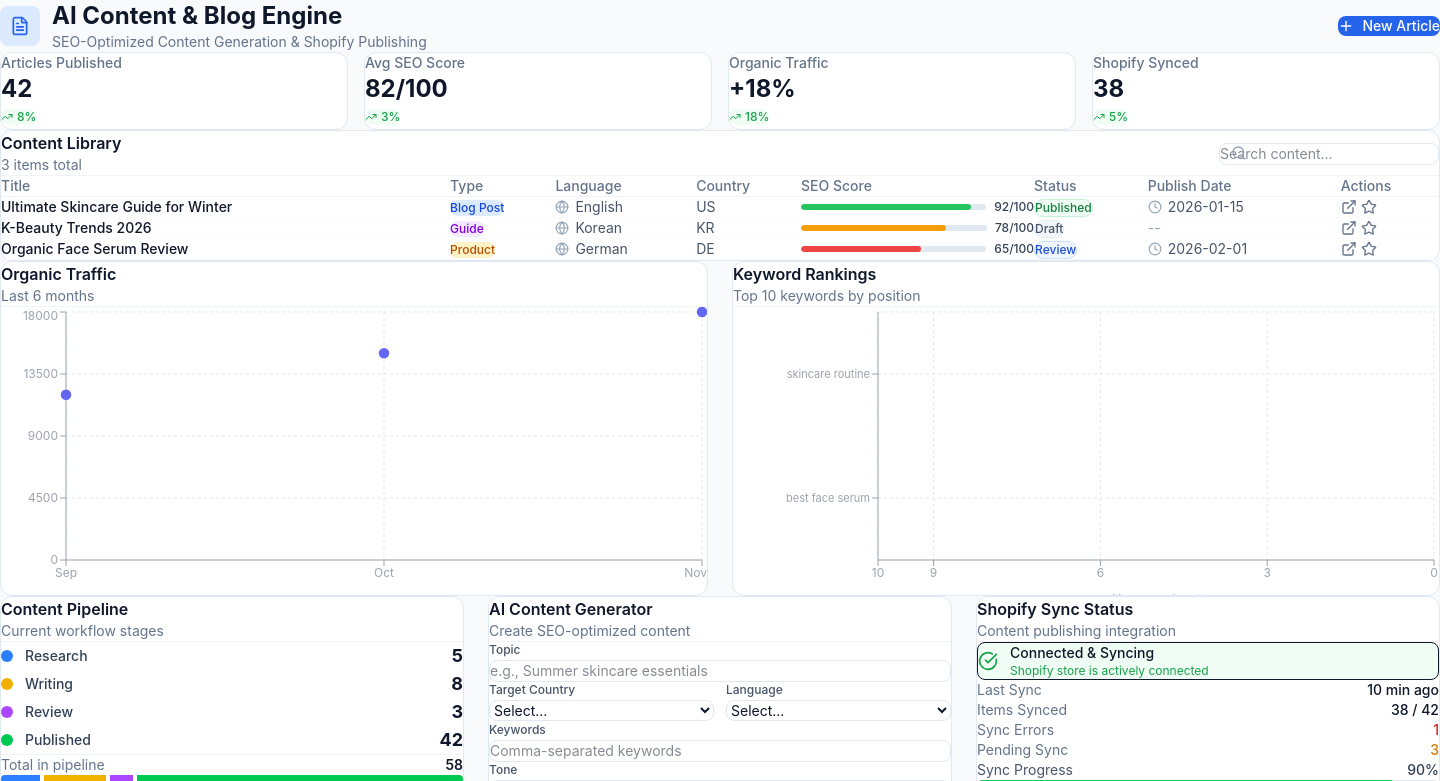
Test: ContentBlog › filters content by search query
The image size is (1440, 781).
Type "K-Beauty" into the field with placeholder "Search content..." at (1329, 154), box [1219,143,1439,165]
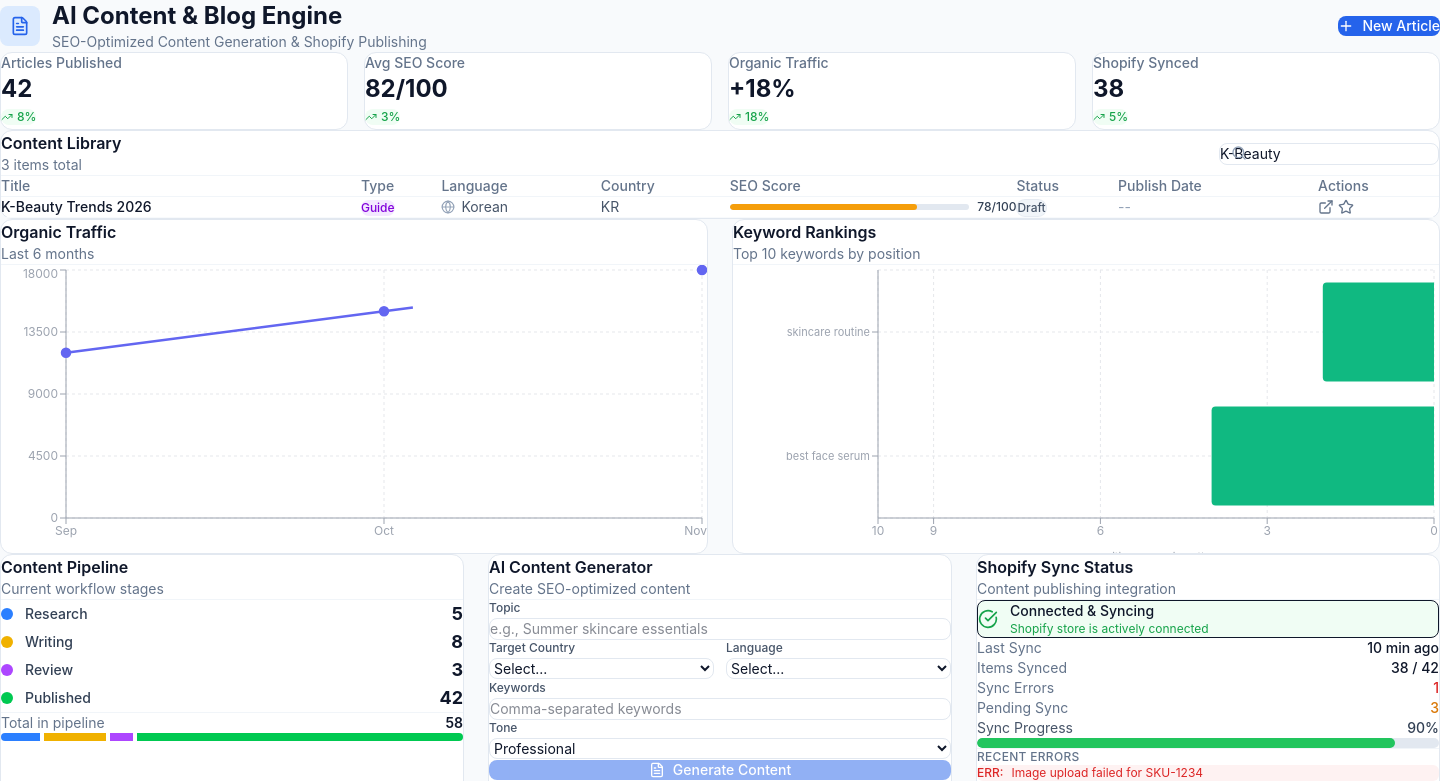
Expected: the text "K-Beauty Trends 2026" is shown, [1,198,152,215]
Expected: the text "Ultimate Skincare Guide for Winter" is gone
